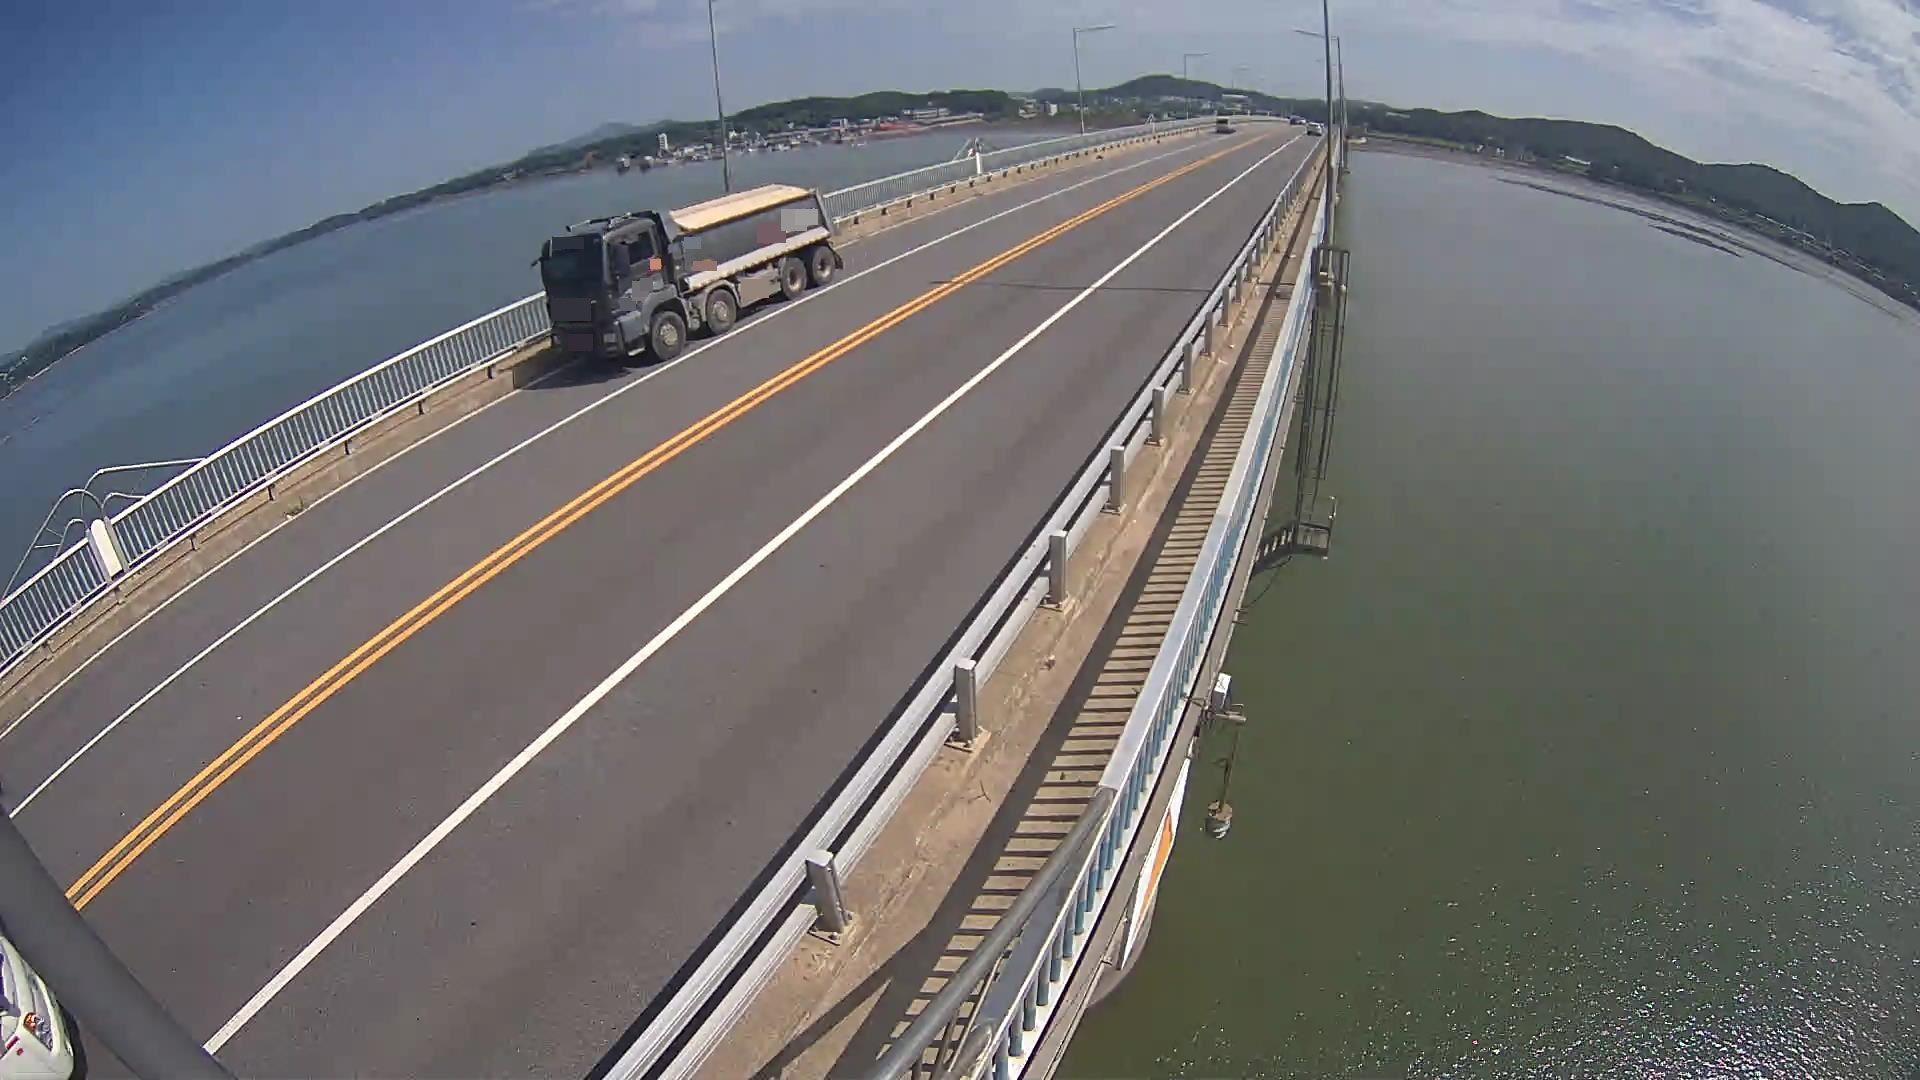정상차량: (530, 182, 844, 360)
